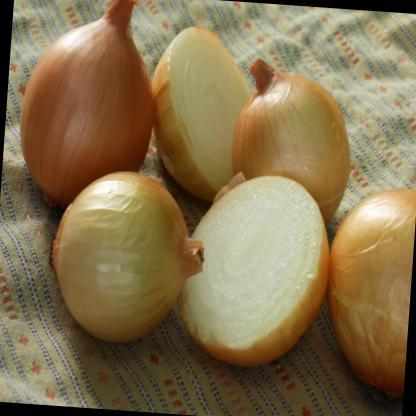onion: (41, 158, 213, 351)
